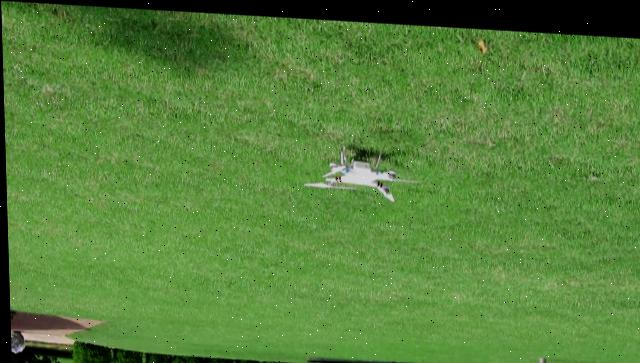drone: (300, 137, 417, 198)
